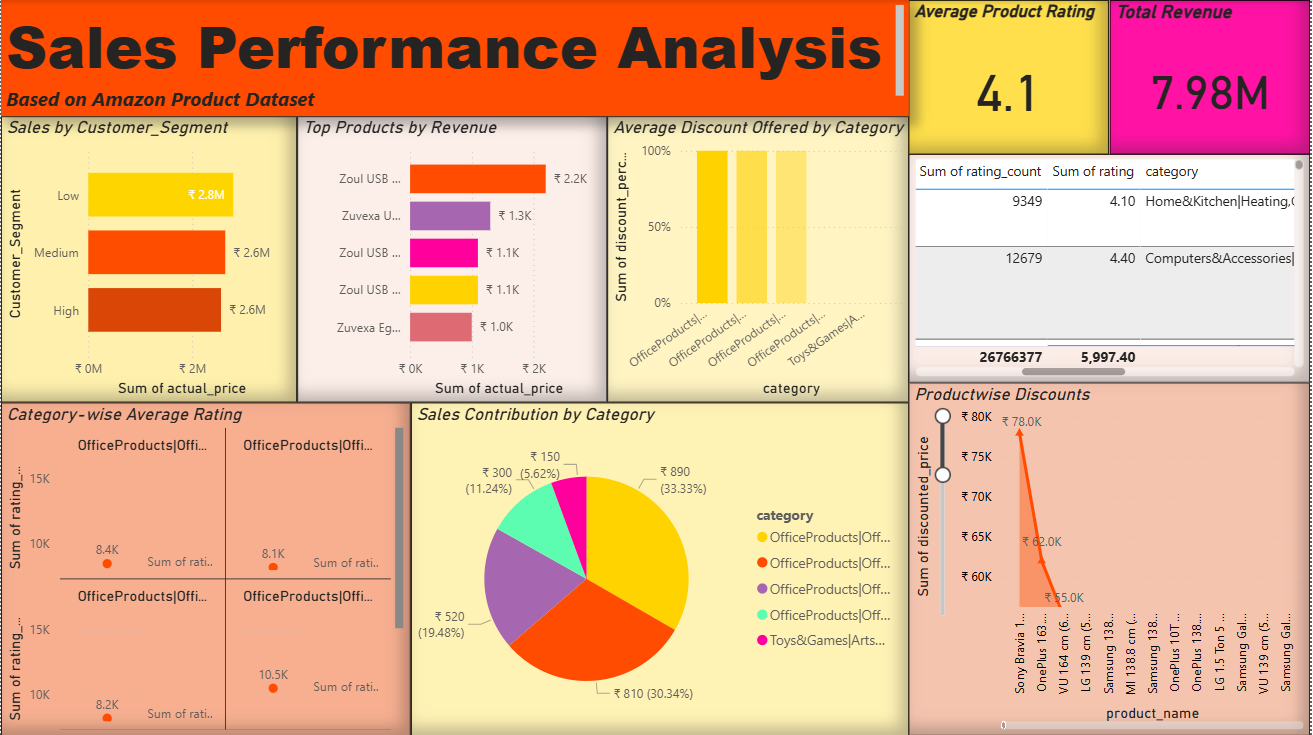

This screenshot's page, from the dashboard's own definition file:
{"tool":"powerbi","page":{"name":"Page 1","canvas":[1280,720],"ordinal":0},"visuals":[{"type":"clusteredBarChart","title":"Top Products by Revenue","fields":{"Category":["amazon.product_name"],"Y":["Sum(amazon.actual_price)"]},"box":[289.5,113.9,303.3,279.9],"z":0},{"type":"barChart","title":"Sales by Customer_Segment","fields":{"Category":["amazon.Customer_Segment"],"Y":["Sum(amazon.actual_price)"]},"box":[0,113.9,289.5,279.9],"z":1000},{"type":"lineChart","title":"Category-wise Average Rating","fields":{"Rows":["amazon.category"],"Y":["Sum(amazon.rating_count)"]},"box":[0,393.8,400.7,326.6],"z":2000},{"type":"pieChart","title":"Sales Contribution by Category","fields":{"Y":["Sum(amazon.actual_price)"],"Category":["amazon.category"]},"box":[400.7,393.8,487.1,326.6],"z":3000},{"type":"hundredPercentStackedColumnChart","title":"Average Discount Offered by Category","fields":{"Category":["amazon.category"],"Y":["Sum(amazon.discount_percentage)"]},"box":[592.8,113.9,295,279.9],"z":4000},{"type":"lineChart","title":"Productwise Discounts","fields":{"Category":["amazon.product_name"],"Y":["Sum(amazon.discounted_price)"]},"box":[887.8,374.6,392.5,345.8],"z":5000},{"type":"card","title":"Total Revenue","fields":{"Values":["Sum(amazon.actual_price)"]},"box":[1084.1,0,196.2,150.9],"z":6000},{"type":"card","title":"Average Product Rating","fields":{"Values":["Avg(amazon.rating)"]},"box":[887.8,0,196.2,150.9],"z":7000},{"type":"tableEx","fields":{"Values":["amazon.review_title","Sum(amazon.rating_count)","Sum(amazon.rating)","amazon.category","amazon.product_name"]},"box":[887.8,150.9,392.5,223.7],"z":8000},{"type":"textbox","box":[0,0,887.8,113.9],"z":9000}]}

Visuals, with their boxes in screenshot pixels (x1, y1, x2, y2), scaled from the page's 1280x720 canvas onto the 1313x735 screenshot:
"Top Products by Revenue" clusteredBarChart: x1=297 y1=116 x2=608 y2=402
"Sales by Customer_Segment" barChart: x1=0 y1=116 x2=297 y2=402
"Category-wise Average Rating" lineChart: x1=0 y1=402 x2=411 y2=734
"Sales Contribution by Category" pieChart: x1=411 y1=402 x2=911 y2=734
"Average Discount Offered by Category" hundredPercentStackedColumnChart: x1=608 y1=116 x2=911 y2=402
"Productwise Discounts" lineChart: x1=911 y1=382 x2=1312 y2=734
"Total Revenue" card: x1=1112 y1=0 x2=1312 y2=154
"Average Product Rating" card: x1=911 y1=0 x2=1112 y2=154
tableEx - amazon.review_title x Sum(amazon.rating_count): x1=911 y1=154 x2=1312 y2=382
textbox: x1=0 y1=0 x2=911 y2=116
